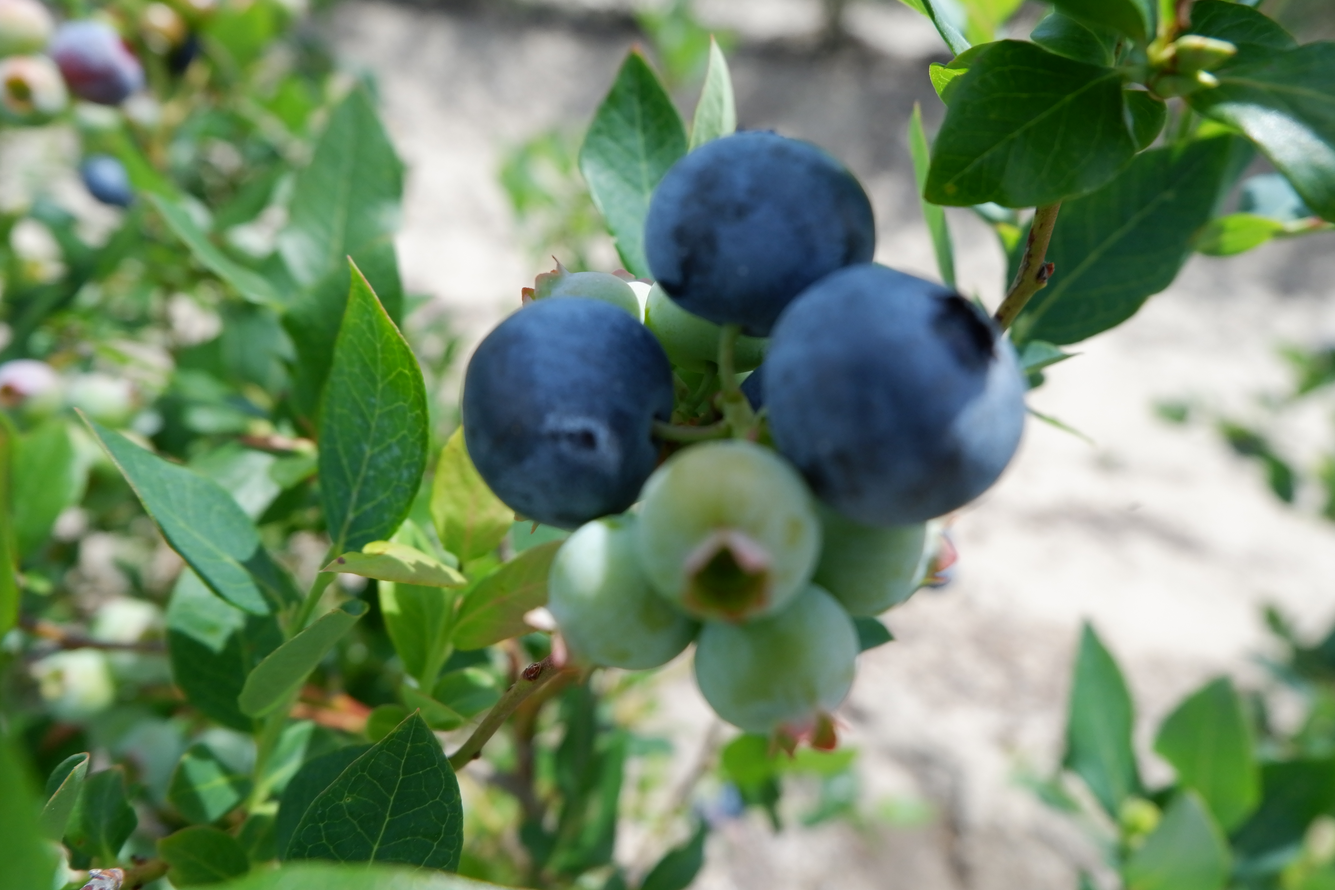Immature: (642, 445, 822, 620), (697, 589, 862, 757), (550, 517, 695, 667), (814, 507, 952, 615), (644, 283, 768, 375), (521, 257, 640, 321), (612, 270, 653, 326)
Mature: (757, 273, 1026, 523), (465, 299, 668, 525), (648, 133, 874, 328)
